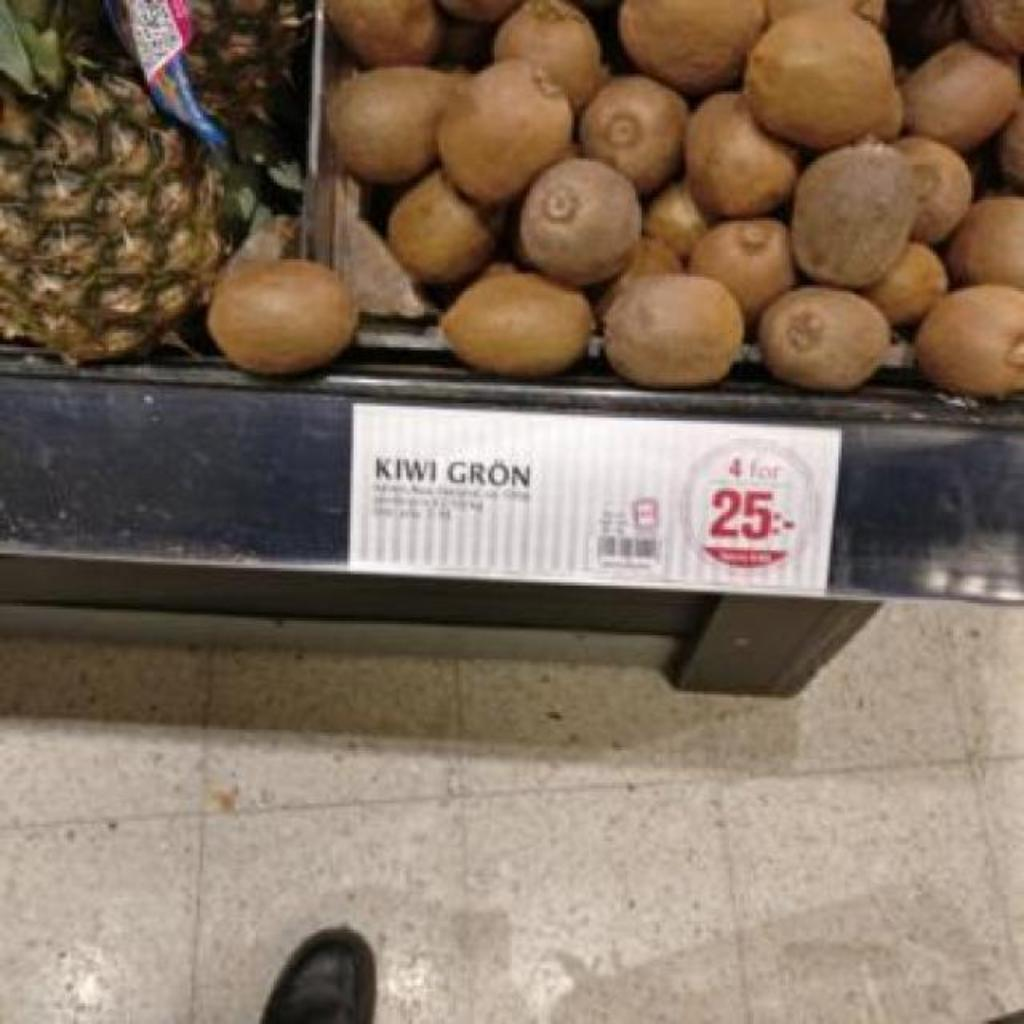kiwi: (744, 16, 898, 150), (444, 60, 572, 206), (794, 142, 918, 288), (440, 262, 592, 376), (208, 262, 354, 372), (330, 68, 468, 184), (606, 276, 744, 388), (522, 160, 642, 286), (620, 0, 766, 94), (762, 288, 892, 390), (686, 94, 794, 216), (904, 42, 1020, 150), (584, 76, 688, 192), (495, 0, 602, 110), (690, 218, 796, 326), (390, 170, 492, 282), (918, 290, 1024, 391), (899, 140, 972, 244), (327, 0, 440, 66), (864, 247, 948, 328), (948, 199, 1024, 288), (600, 236, 679, 314), (644, 182, 708, 258), (961, 0, 1024, 53), (767, 0, 886, 22), (1000, 96, 1023, 186)
